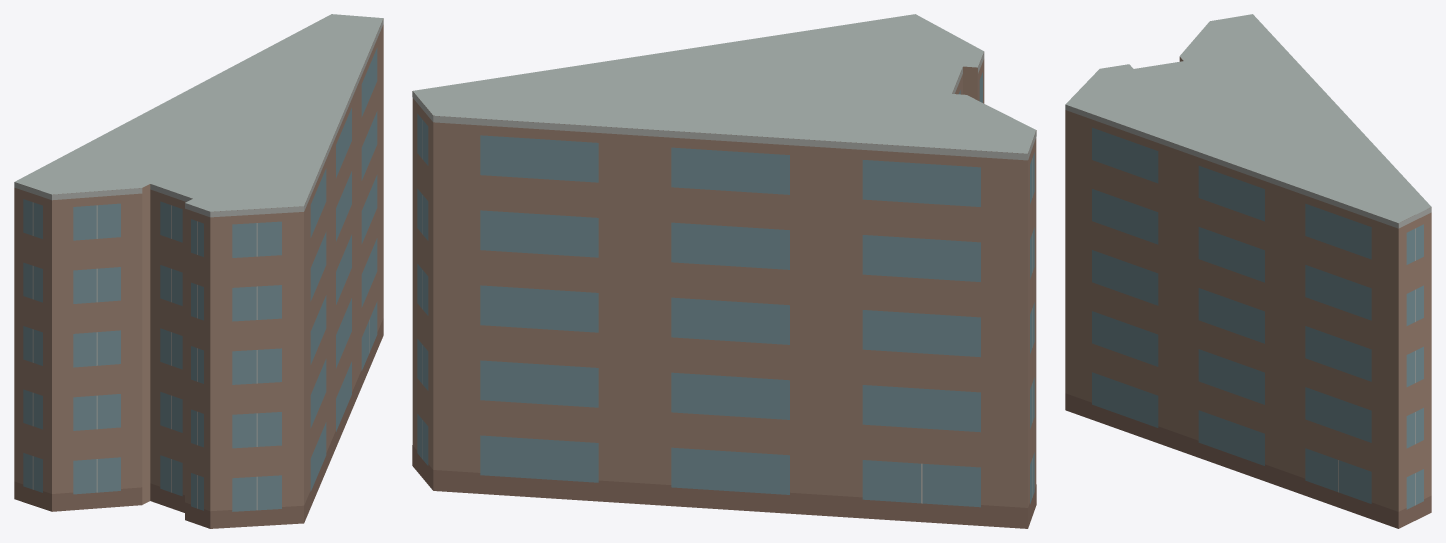
Rendered from survey-upis-33044407.glb.
3 renders of one model, left to right at view 1: azimuth 30°, elevation 25°; view 2: azimuth 150°, elevation 25°; view 3: azimuth 270°, elevation 25°, orthographic. The views are drawn at different scales.
Parts seen in each view (by area): view 1: survey-upis-33044407.tmp; view 2: survey-upis-33044407.tmp; view 3: survey-upis-33044407.tmp.
Boxes of the visible parts, box(x1,y1,x2,y2) form: survey-upis-33044407.tmp: box(14, 14, 383, 528); survey-upis-33044407.tmp: box(412, 14, 1036, 528); survey-upis-33044407.tmp: box(1065, 14, 1431, 528).
Bounding box in the file's own units: 20.03 × 13.65 × 14.83.
